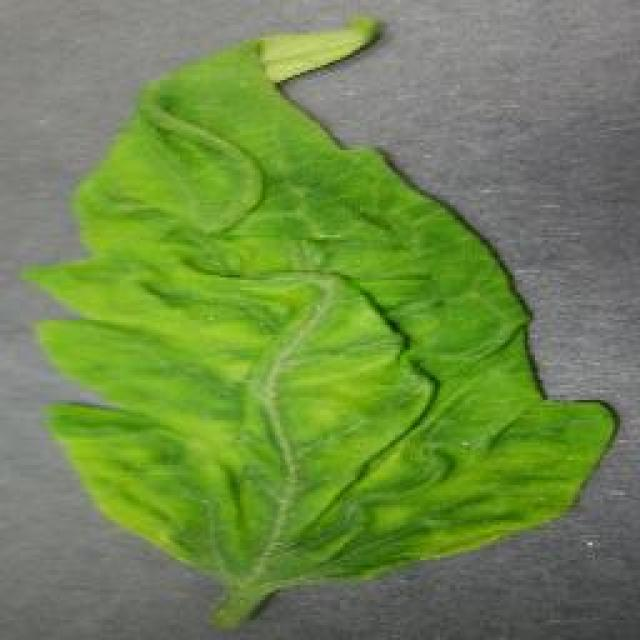Tom_Yellow_Leaf_Curl_Virus: (85, 74, 495, 561)
